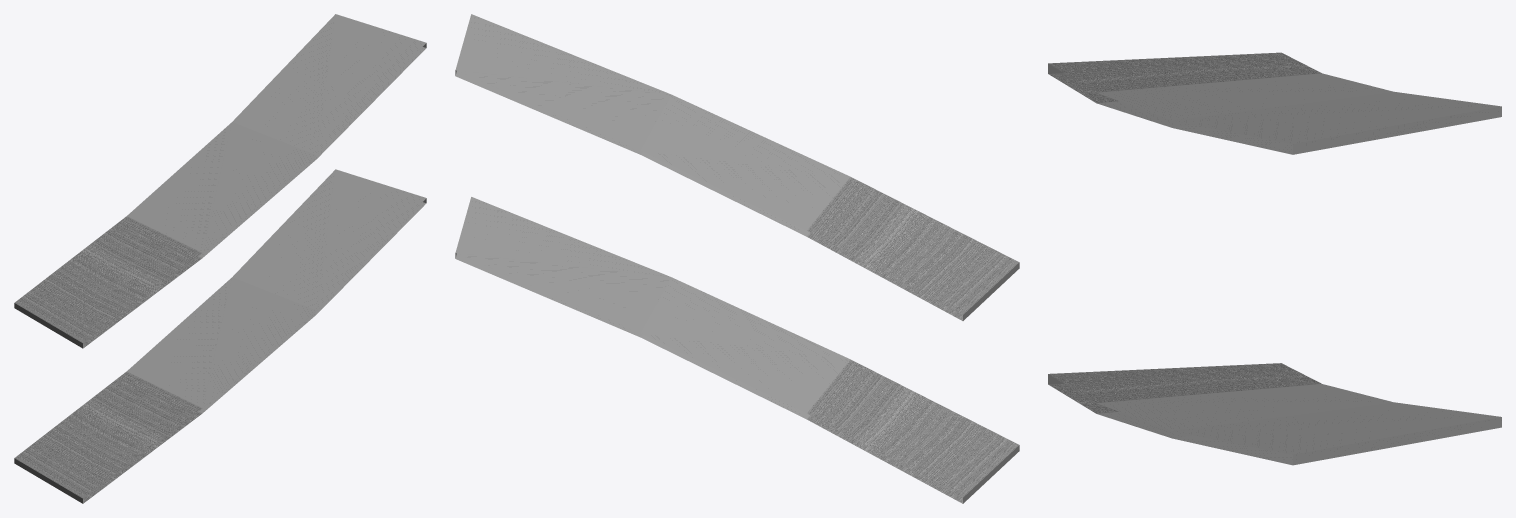
File: Steps_collision.glb
3 renders of one model, left to right at view 1: azimuth 30°, elevation 25°; view 2: azimuth 150°, elevation 25°; view 3: azimuth 270°, elevation 25°, orthographic. The views are drawn at different scales.
Visible parts, largest first — view 1: Steps collision; view 2: Steps collision; view 3: Steps collision.
Part boxes in pixels (left/top/right/bottom): Steps collision: left=14, top=14, right=426, bottom=503; Steps collision: left=455, top=14, right=1019, bottom=503; Steps collision: left=1048, top=52, right=1501, bottom=465.
Bounding box in the file's own units: 22.66 × 16.57 × 10.73.
Materials: 1 (1 with a texture image).
